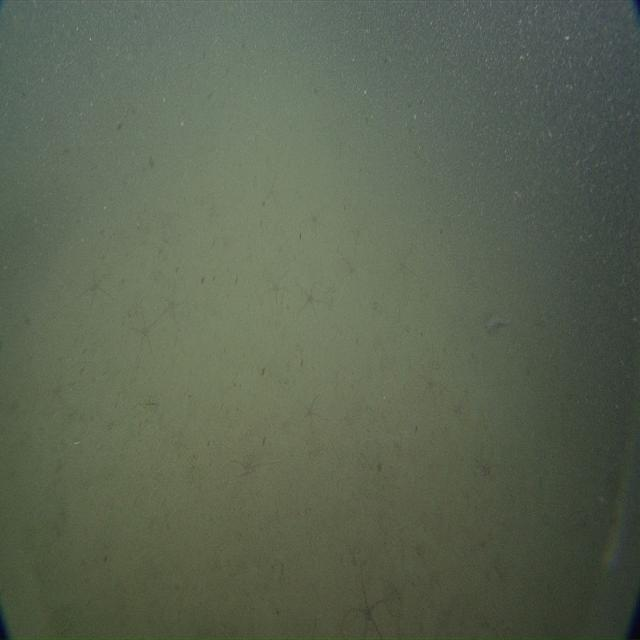Brittle Star: (74, 261, 124, 320), (133, 299, 170, 355), (294, 386, 328, 438), (299, 281, 328, 320)
